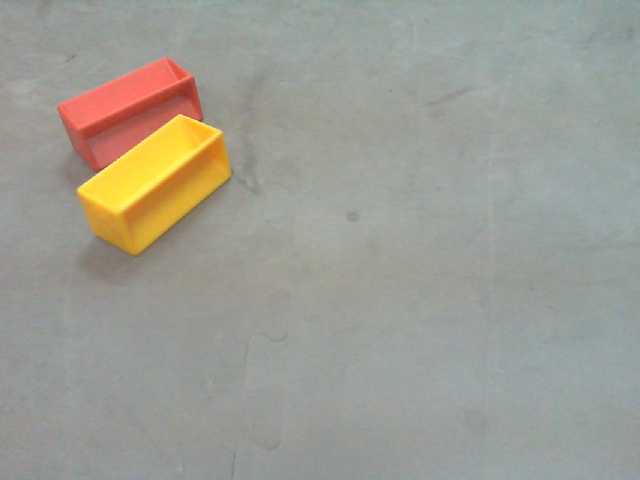RedSample: (53, 53, 205, 176)
YellowSample: (76, 108, 232, 259)
